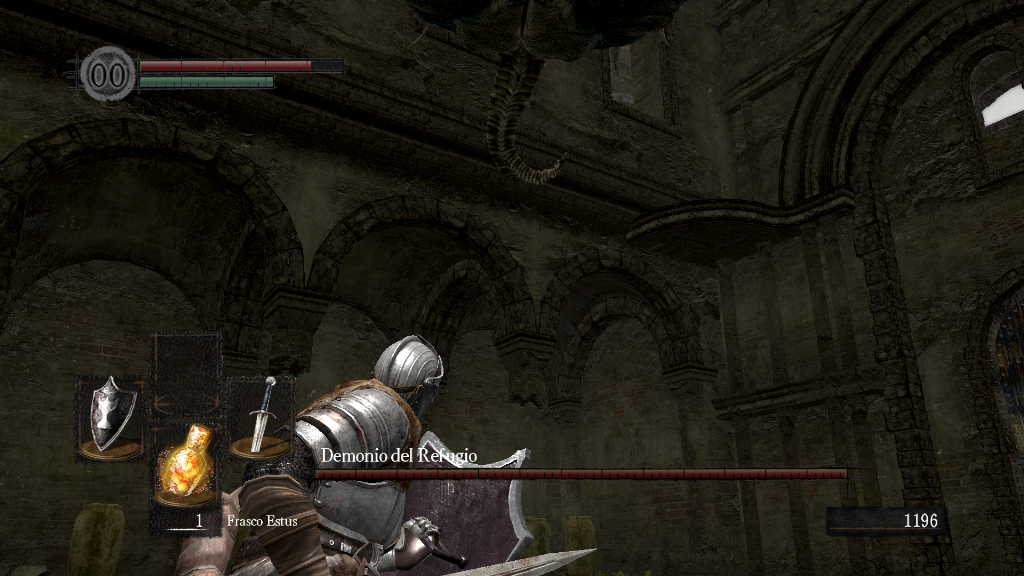asylumDemon: (387, 1, 692, 184)
bossHP: (314, 469, 847, 479)
health: (138, 58, 343, 71)
humanity: (80, 45, 136, 102)
player: (176, 331, 599, 576)
souls: (825, 506, 945, 536)
stamina: (138, 74, 274, 88)
